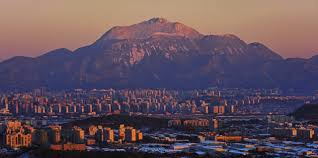city: (9, 92, 318, 157)
mountain: (14, 20, 314, 91)
